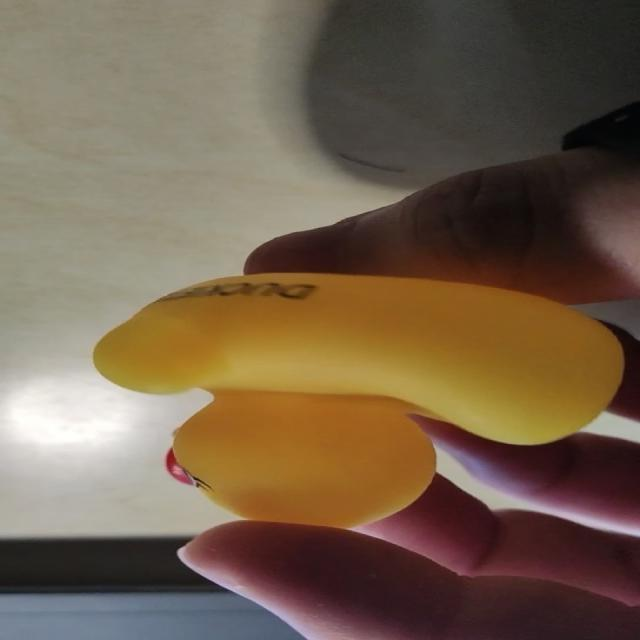rubber-duck: (93, 273, 622, 525)
